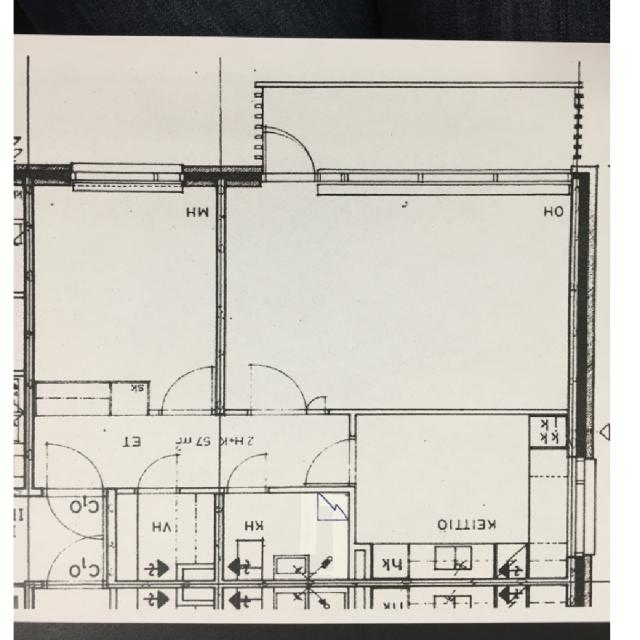door: (46, 438, 102, 497), (46, 488, 102, 546), (250, 360, 306, 416), (264, 121, 312, 186), (299, 439, 355, 484), (162, 365, 212, 415), (226, 452, 266, 493), (137, 454, 176, 494), (306, 393, 324, 415)
